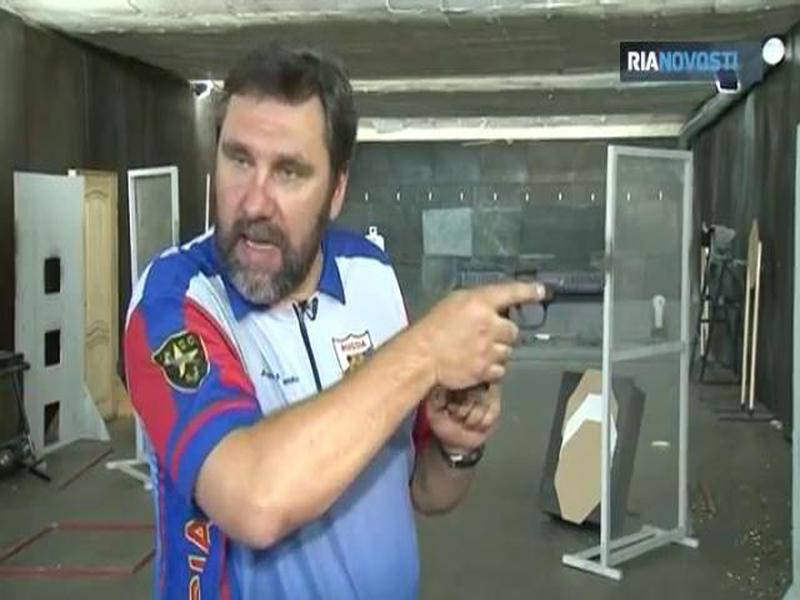Pistola: (430, 254, 617, 409)
